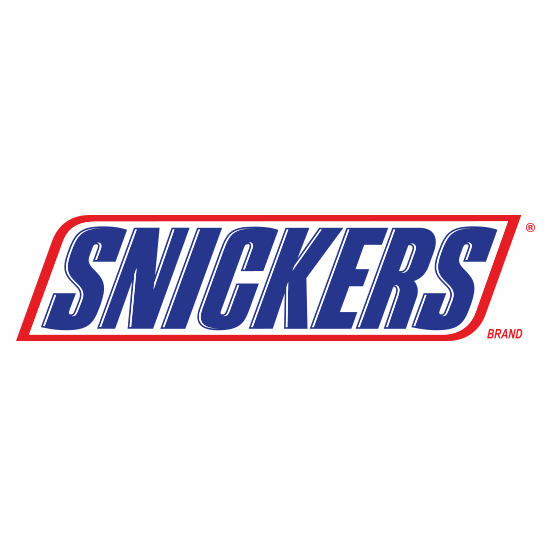snickers: (39, 222, 496, 327), (41, 222, 496, 327), (39, 223, 496, 327)
